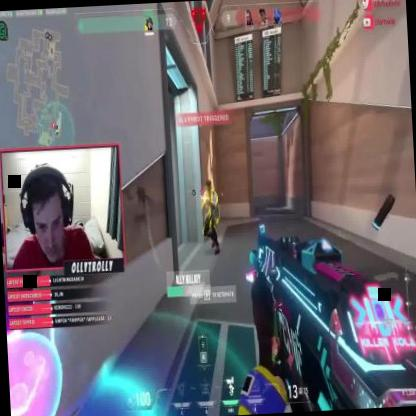enemy: (199, 180, 221, 256)
enemy_head: (206, 180, 212, 194)
